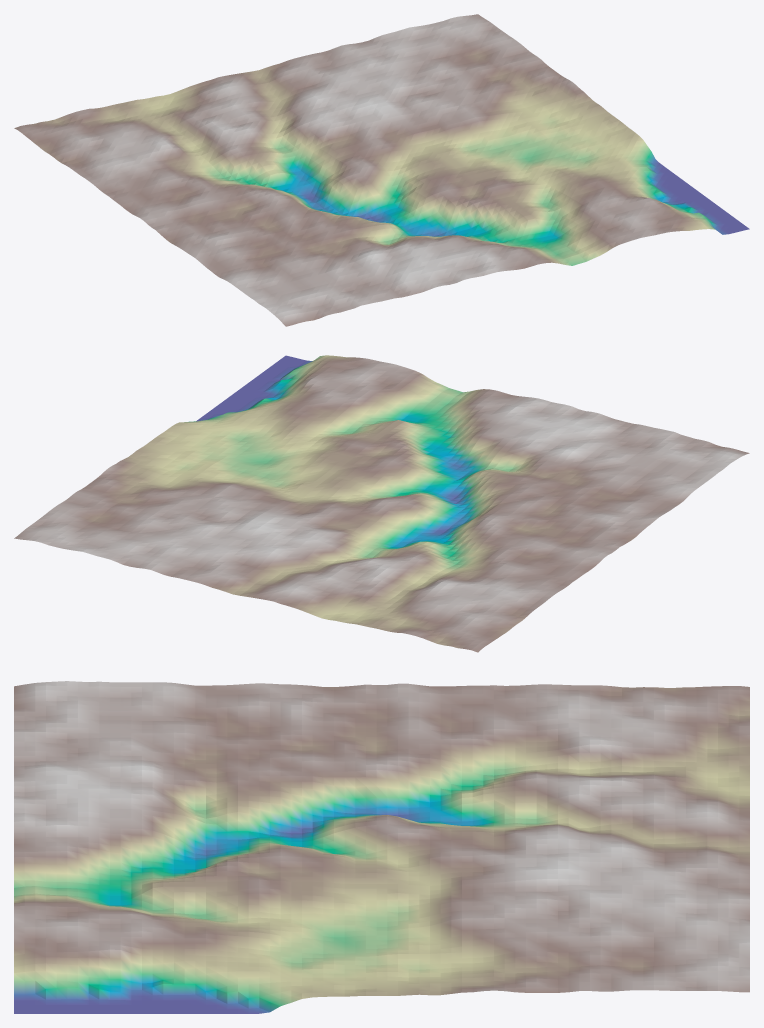
Rendered from 003287_terrain_only.glb.
3 views of the same model, one above another, from view 1: azimuth 30°, elevation 25°; view 2: azimuth 150°, elevation 25°; view 3: azimuth 270°, elevation 25° (orthographic). The views are drawn at different scales.
Visible parts, largest first — view 1: terrain; view 2: terrain; view 3: terrain.
Part boxes in pixels (left/top/right/bottom): terrain: left=14, top=14, right=749, bottom=326; terrain: left=14, top=355, right=749, bottom=652; terrain: left=14, top=681, right=749, bottom=1013.
Bounding box in the file's own units: 0.0183 × 0.000774 × 0.0186.
